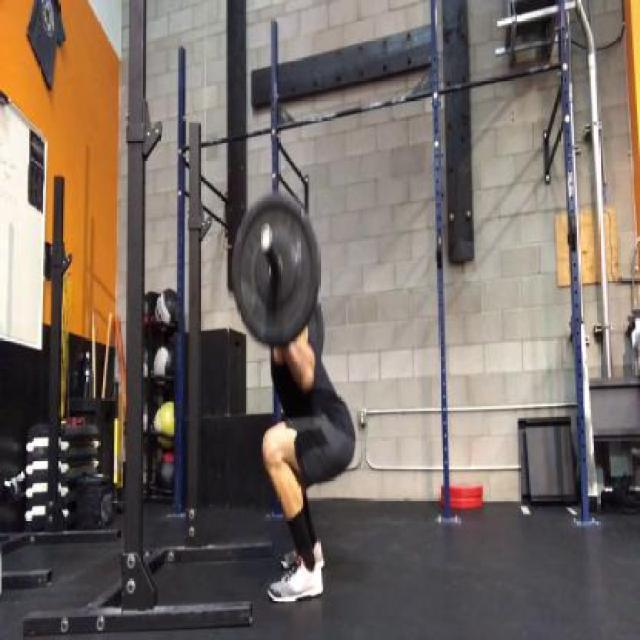barbell: (231, 190, 325, 353)
